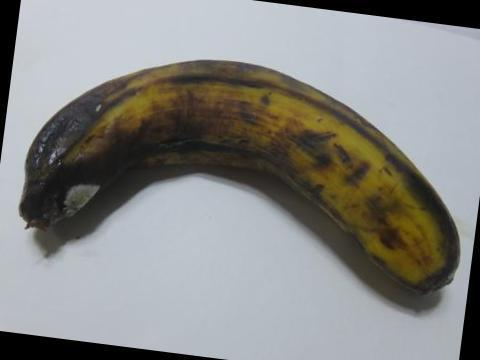overripe: (11, 48, 479, 303)
rotten: (0, 94, 149, 237)
